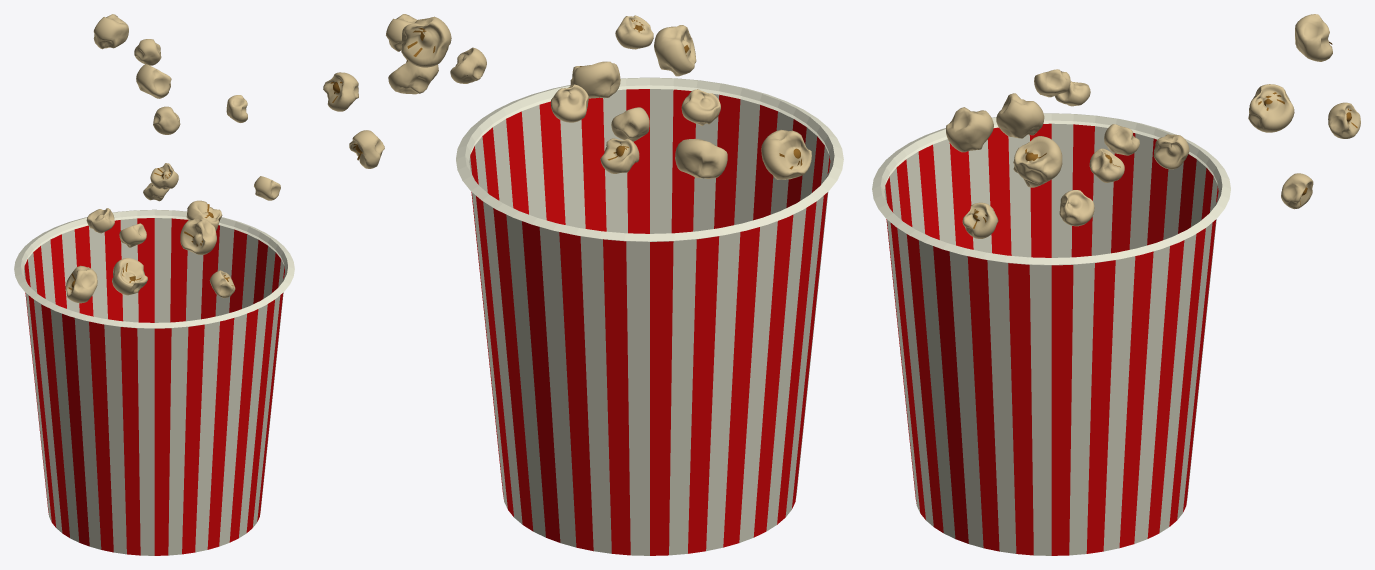
The model's file is PopCorn.glb.
3 renders of one model, left to right at view 1: azimuth 30°, elevation 25°; view 2: azimuth 150°, elevation 25°; view 3: azimuth 270°, elevation 25°, orthographic. The views are drawn at different scales.
Parts seen in each view (by area): view 1: Baeger, Pop.003, Pop.005, Pop.013, Pop.008, Pop.010, Pop.011, Pop, Pop.012, Pop.002, Pop.007, Pop.009 (+3 smaller); view 2: Baeger, Pop.013, Pop.008, Pop.005, Pop.003, Pop, Pop.010, Pop.001, Pop.007, Pop.006, Pop.009, Pop.012 (+3 smaller); view 3: Baeger, Pop, Pop.010, Pop.003, Pop.008, Pop.013, Pop.004, Pop.014, Pop.009, Pop.012, Pop.011, Pop.006 (+3 smaller).
Boxes of the visible parts, left/top/right/bottom form: Baeger: left=14, top=209, right=294, bottom=555; Pop.003: left=180, top=218, right=216, bottom=254; Pop.005: left=112, top=258, right=147, bottom=295; Pop.013: left=93, top=14, right=128, bottom=49; Pop.008: left=65, top=265, right=97, bottom=303; Pop.010: left=136, top=64, right=171, bottom=98; Pop.011: left=153, top=106, right=180, bottom=134; Pop: left=186, top=200, right=222, bottom=230; Pop.012: left=134, top=39, right=161, bottom=65; Pop.002: left=150, top=163, right=178, bottom=189; Pop.007: left=86, top=208, right=114, bottom=233; Pop.009: left=209, top=270, right=235, bottom=298; Baeger: left=456, top=77, right=843, bottom=555; Pop.013: left=401, top=16, right=451, bottom=67; Pop.008: left=761, top=129, right=811, bottom=179; Pop.005: left=675, top=139, right=727, bottom=178; Pop.003: left=654, top=25, right=696, bottom=76; Pop: left=570, top=61, right=620, bottom=98; Pop.010: left=388, top=60, right=438, bottom=94; Pop.001: left=550, top=84, right=588, bottom=122; Pop.007: left=681, top=89, right=720, bottom=125; Pop.006: left=600, top=138, right=639, bottom=173; Pop.009: left=611, top=107, right=649, bottom=141; Pop.012: left=323, top=72, right=358, bottom=111; Baeger: left=872, top=113, right=1230, bottom=555; Pop: left=1014, top=136, right=1062, bottom=183; Pop.010: left=1248, top=84, right=1294, bottom=132; Pop.003: left=946, top=107, right=993, bottom=152; Pop.008: left=996, top=93, right=1044, bottom=138; Pop.013: left=1295, top=14, right=1332, bottom=61; Pop.004: left=1059, top=190, right=1094, bottom=226; Pop.014: left=1153, top=134, right=1189, bottom=169; Pop.009: left=962, top=202, right=998, bottom=238; Pop.012: left=1328, top=102, right=1360, bottom=138; Pop.011: left=1281, top=173, right=1313, bottom=209; Pop.006: left=1089, top=148, right=1124, bottom=182.
Bounding box in the file's own units: 2.3 × 3.41 × 2.92.
